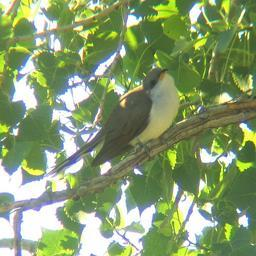Cuckoo: (42, 67, 181, 178)
